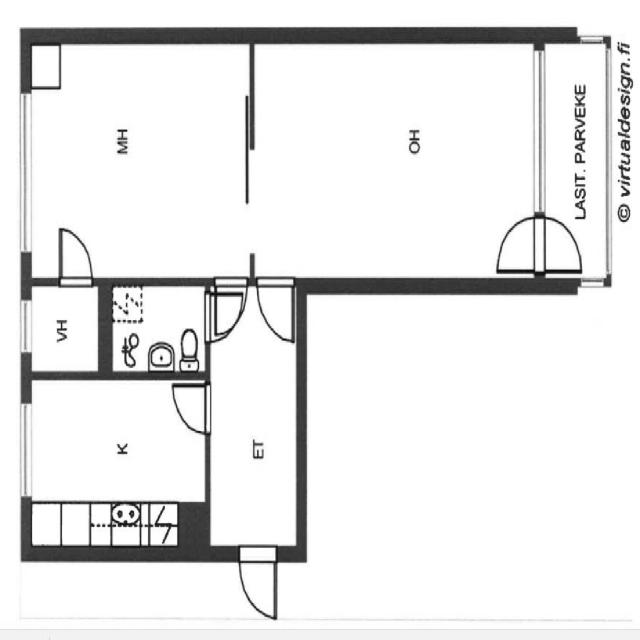door: (486, 211, 578, 273), (233, 540, 281, 625), (53, 223, 97, 287), (256, 277, 297, 345), (168, 377, 214, 437), (207, 280, 245, 348)
window: (11, 84, 40, 265), (526, 43, 550, 222), (603, 41, 613, 271), (17, 397, 35, 503), (17, 290, 35, 363)
zone: (251, 38, 544, 283), (29, 36, 252, 282), (24, 376, 207, 550), (208, 280, 301, 554), (543, 36, 610, 285), (104, 282, 206, 374), (28, 282, 105, 371)
